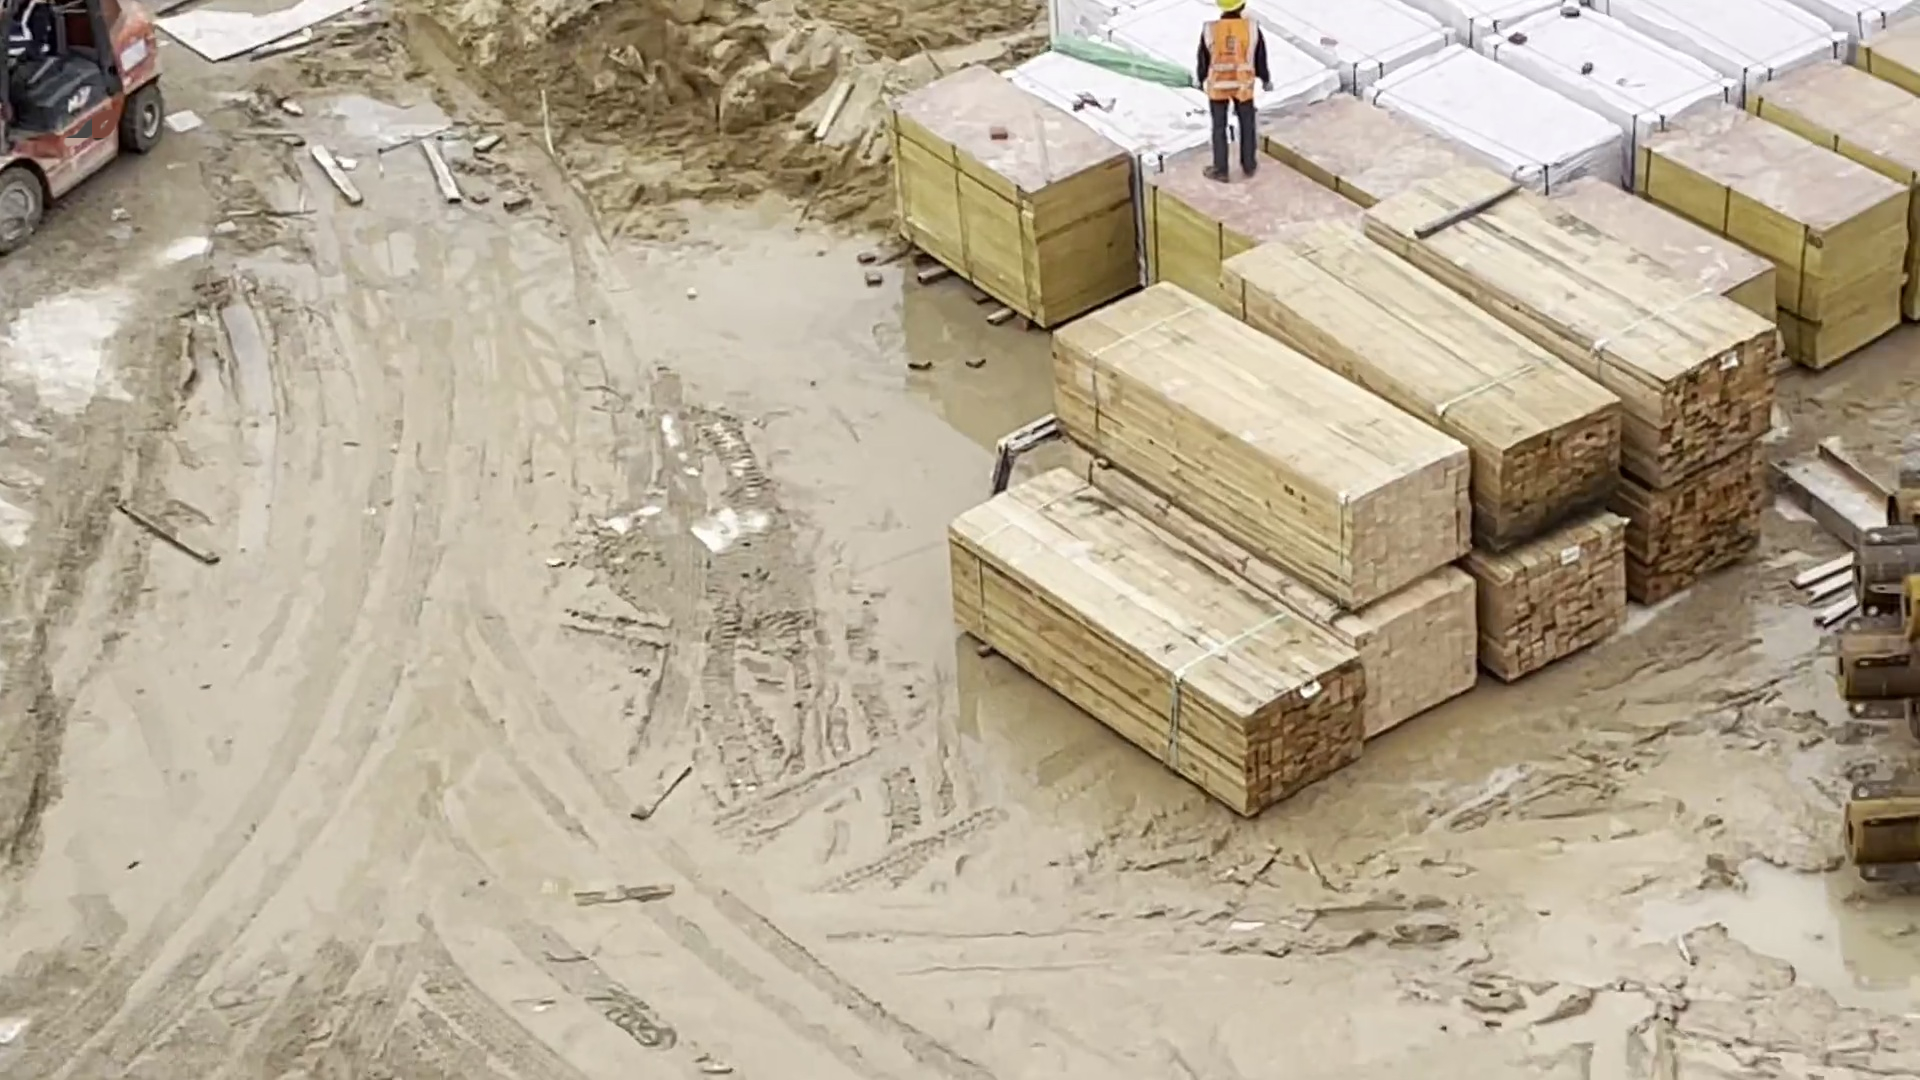board: (1637, 17, 1920, 371), (1131, 90, 1481, 306), (894, 65, 1136, 333)
person: (1196, 1, 1279, 184)
vest: (1204, 20, 1259, 104)
wood: (1364, 167, 1772, 684), (953, 464, 1365, 819), (1048, 275, 1467, 606), (1315, 575, 1479, 740)
